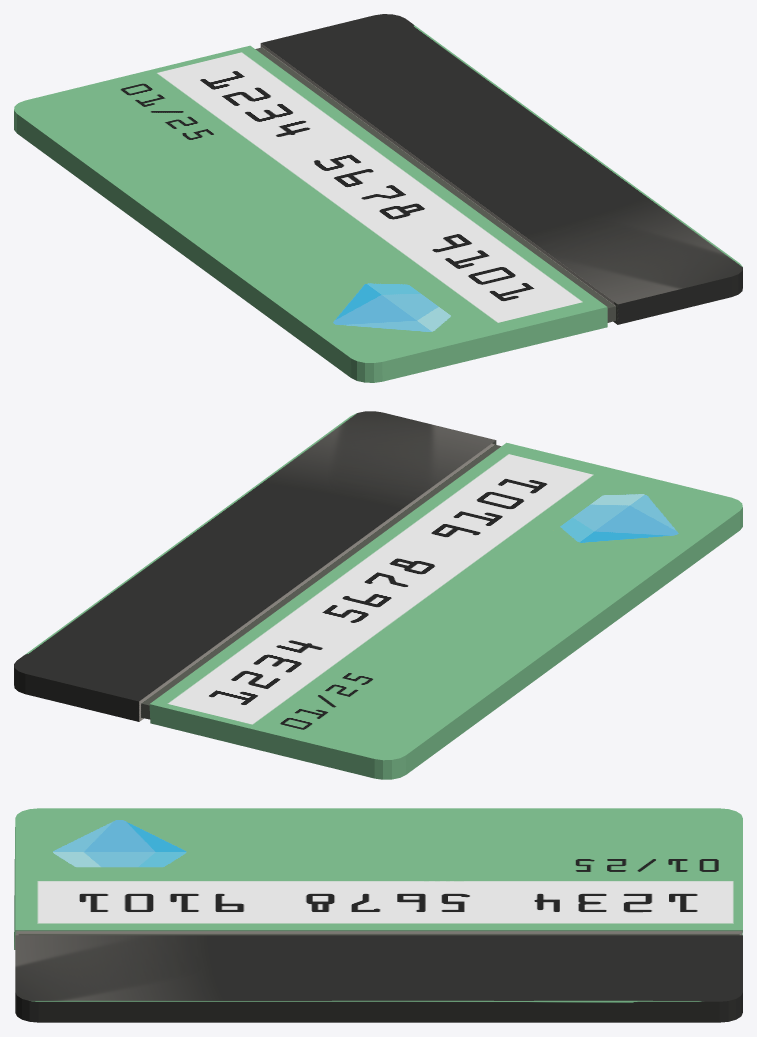
File: credit_card.fbx
3 views of the same model, one above another, from view 1: azimuth 30°, elevation 25°; view 2: azimuth 150°, elevation 25°; view 3: azimuth 270°, elevation 25° (orthographic).
Parts seen in each view (by area): view 1: credit_card; view 2: credit_card; view 3: credit_card.
Part boxes in pixels (box(x1,y1,x2,y2)): credit_card: box(14, 14, 742, 382); credit_card: box(14, 411, 742, 779); credit_card: box(14, 808, 742, 1022).
Bounding box in the file's own units: 26.66 × 1.34 × 42.47.
Materials: 1 (1 with a texture image).
